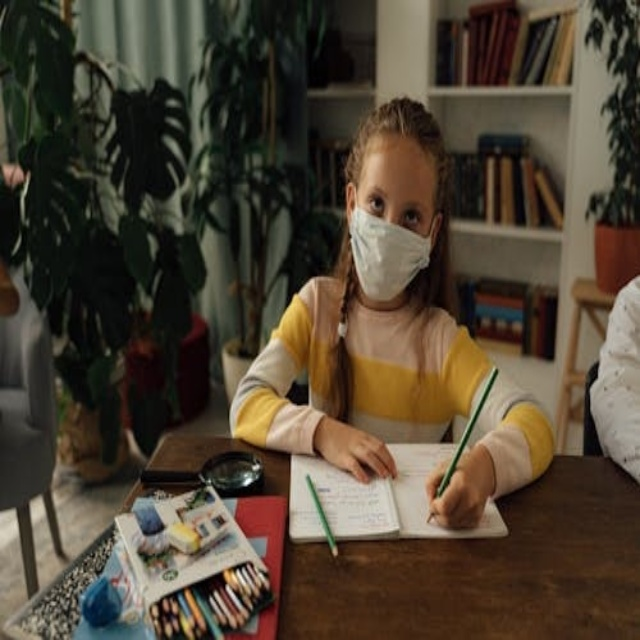Mascara: (348, 198, 436, 303)
Sin_gafas: (361, 171, 434, 231)
Sin_guantes: (314, 402, 401, 488), (425, 450, 491, 530), (1, 162, 27, 192)
